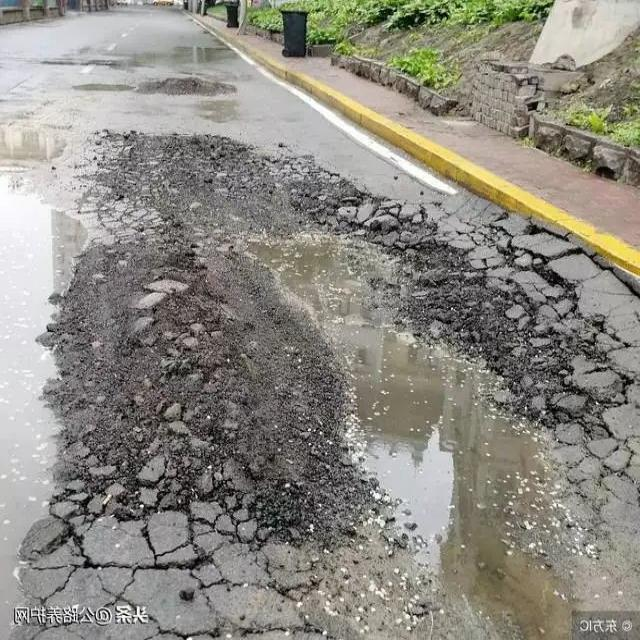pothole: (80, 132, 587, 616), (135, 79, 235, 96)
